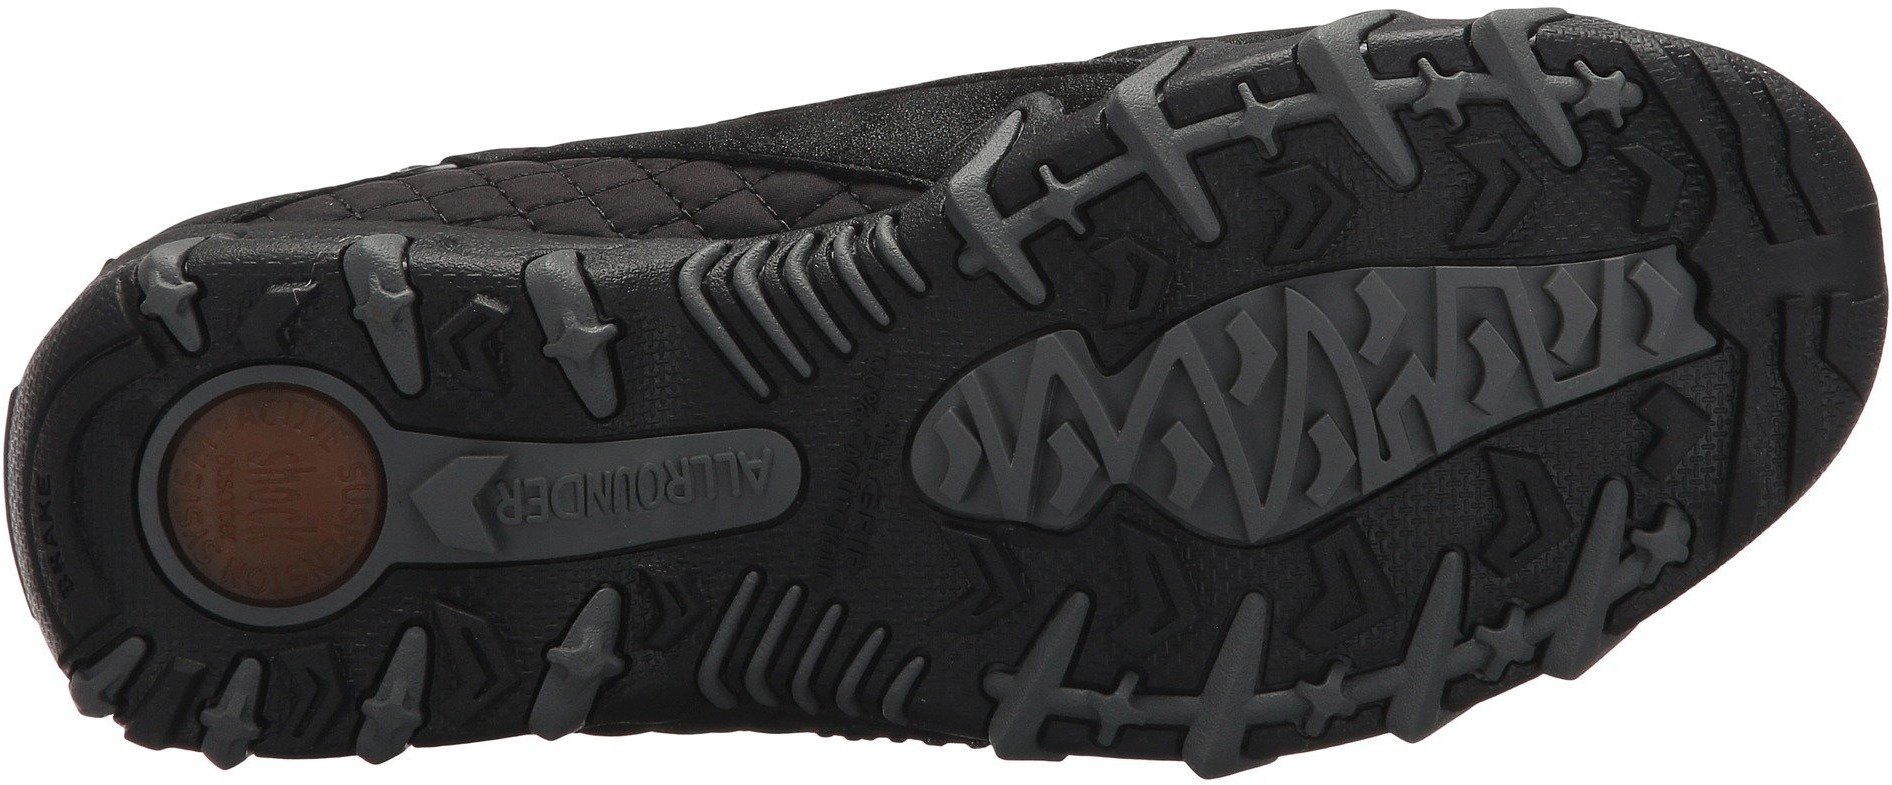chevron: (1440, 437, 1592, 593), (392, 443, 519, 563), (1435, 128, 1552, 252), (1244, 150, 1362, 271), (428, 292, 530, 402), (1598, 135, 1694, 240)
circle: (144, 367, 395, 613)
exclude: (562, 678, 1005, 784)
text: (816, 358, 919, 456), (800, 450, 903, 546), (606, 447, 700, 531), (691, 430, 783, 514), (492, 471, 551, 532), (556, 468, 614, 526), (24, 474, 72, 527)
